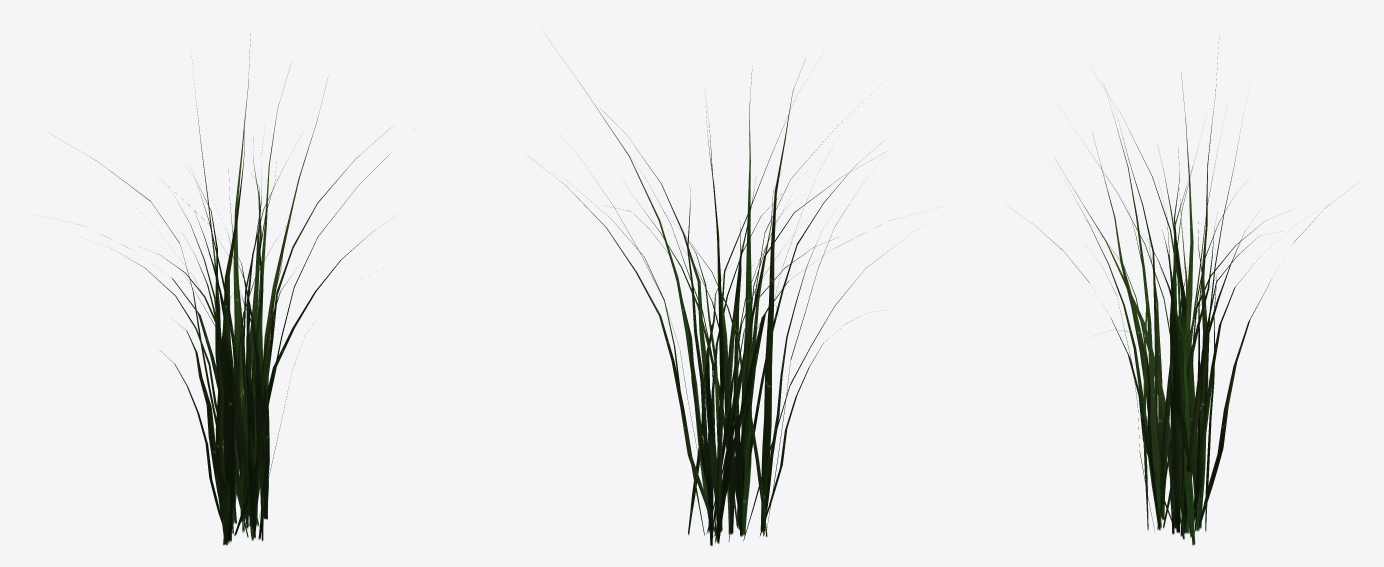
Rendered from Wetland_Cattail_1.glb.
3 views of the same model, side by side, from view 1: azimuth 30°, elevation 25°; view 2: azimuth 150°, elevation 25°; view 3: azimuth 270°, elevation 25° (orthographic). The views are drawn at different scales.
Visible parts, largest first — view 1: Wetland_Cattail_1; view 2: Wetland_Cattail_1; view 3: Wetland_Cattail_1.
Part boxes in pixels (left/top/right/bottom): Wetland_Cattail_1: left=54, top=34, right=390, bottom=545; Wetland_Cattail_1: left=533, top=50, right=893, bottom=545; Wetland_Cattail_1: left=1030, top=38, right=1353, bottom=545.
Bounding box in the file's own units: 2.4 × 2.46 × 1.81.
Materials: 1 (1 with a texture image).
